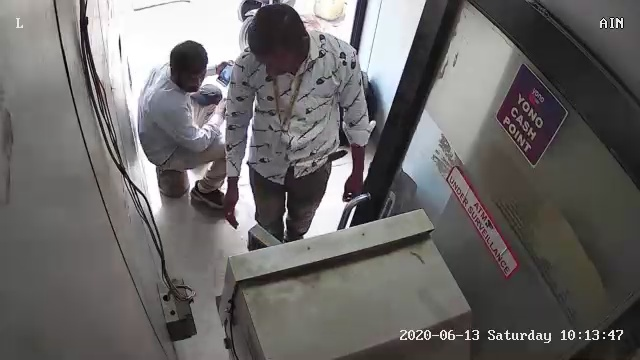open: (340, 3, 635, 354)
